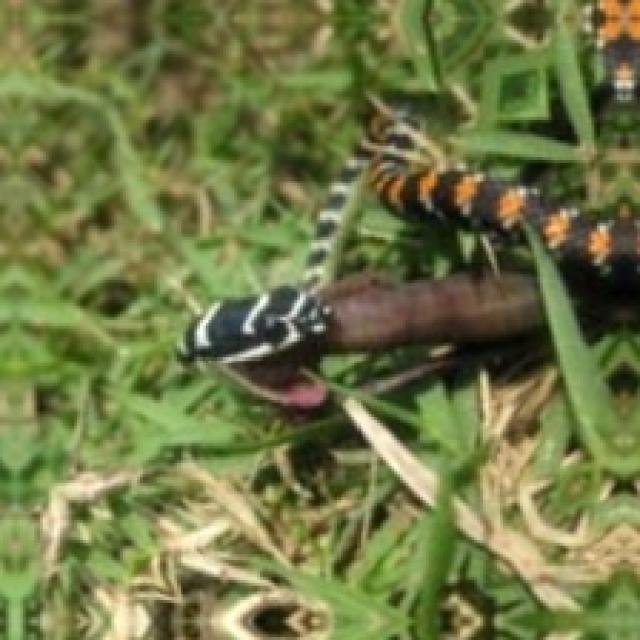paradise tree snake: (180, 100, 637, 409)
